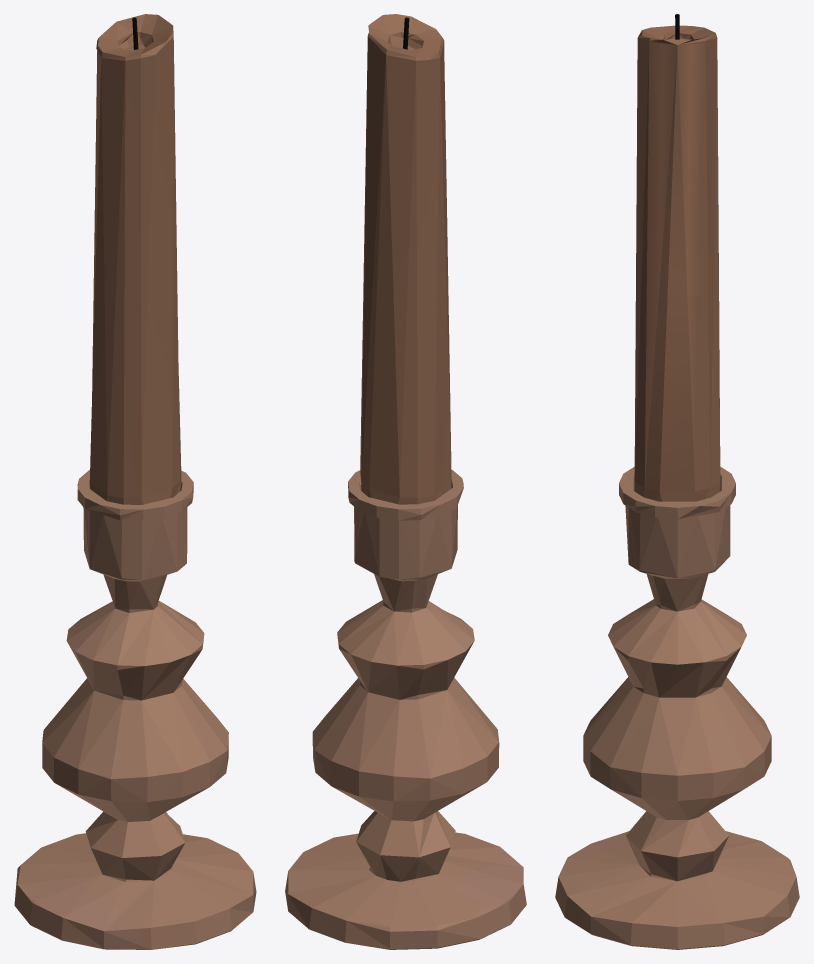
Rendered from Candle_6_unpacked.glb.
3 renders of one model, left to right at view 1: azimuth 30°, elevation 25°; view 2: azimuth 150°, elevation 25°; view 3: azimuth 270°, elevation 25°, orthographic.
Parts seen in each view (by area): view 1: world; view 2: world; view 3: world.
Boxes of the visible parts, x1,y1,x2,y2 form: world: (14,14,256,949); world: (285,14,526,949); world: (555,14,799,949).
Bounding box in the file's own units: 0.0415 × 0.1653 × 0.0415.
1 material, 1 textured.
